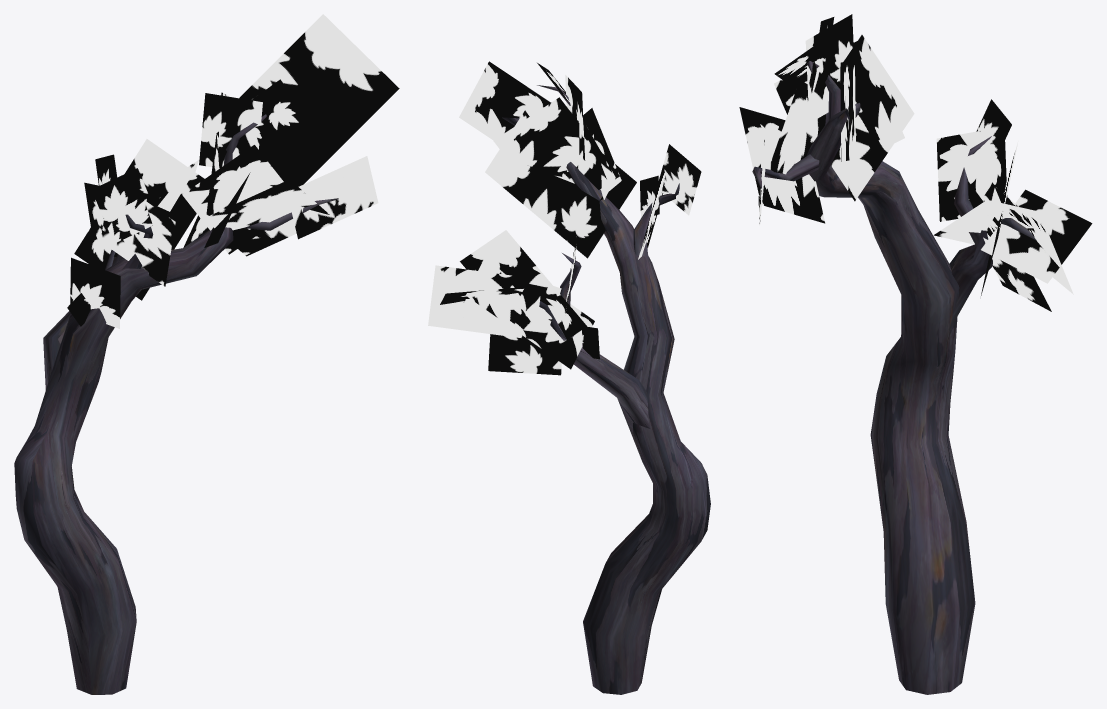
Rendered from P_TreeWindsweptSapling01.obj.
3 renders of one model, left to right at view 1: azimuth 30°, elevation 25°; view 2: azimuth 150°, elevation 25°; view 3: azimuth 270°, elevation 25°, orthographic. The views are drawn at different scales.
Bounding box in the file's own units: 2.47 × 4.73 × 1.96.
